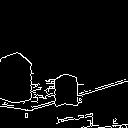cube: (0, 46, 39, 110), (46, 70, 87, 112)
